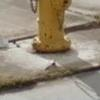Hydrant: (23, 0, 82, 56)
